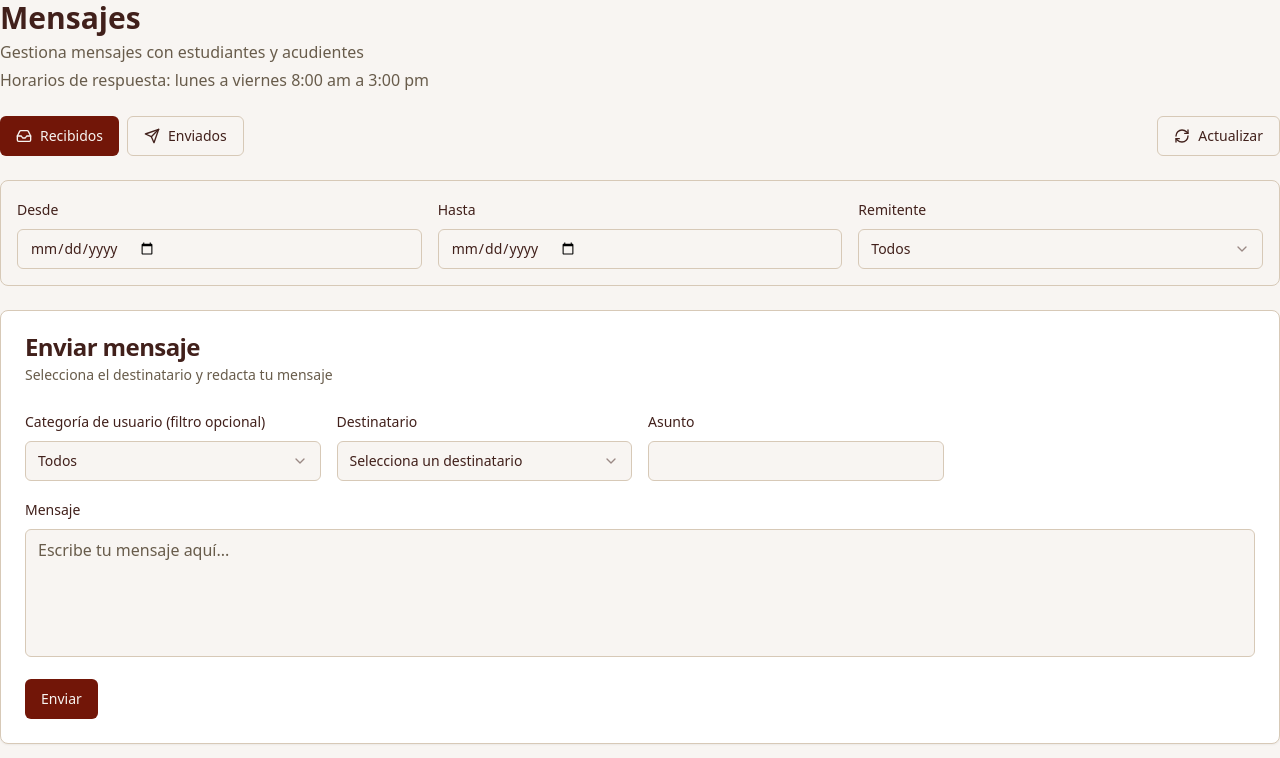
Test: MensajesPage list controls › shows a validation message and does not query for a reversed date range
Type "2026-03-20" into the date field labelled "Desde" at [219, 249], box [17, 229, 422, 269]
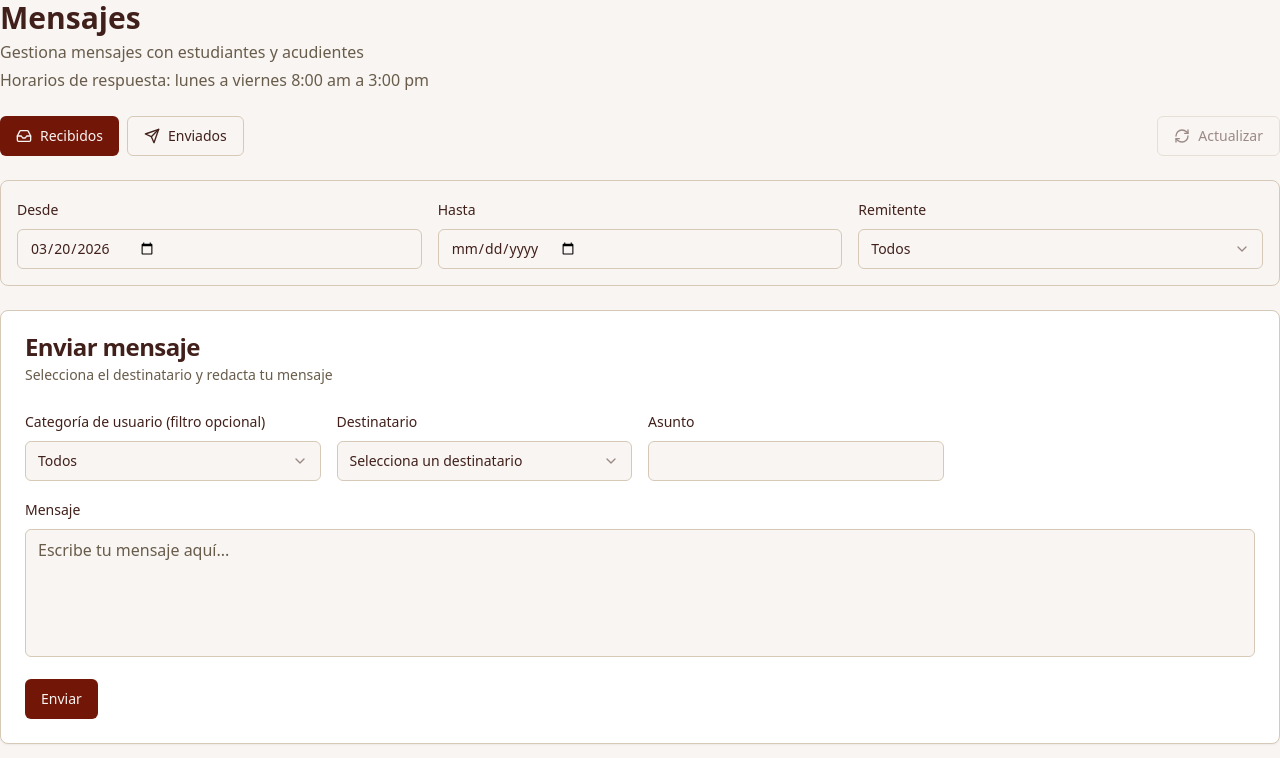
Type "2026-03-10" into the date field labelled "Hasta" at [640, 249], box [438, 229, 842, 269]
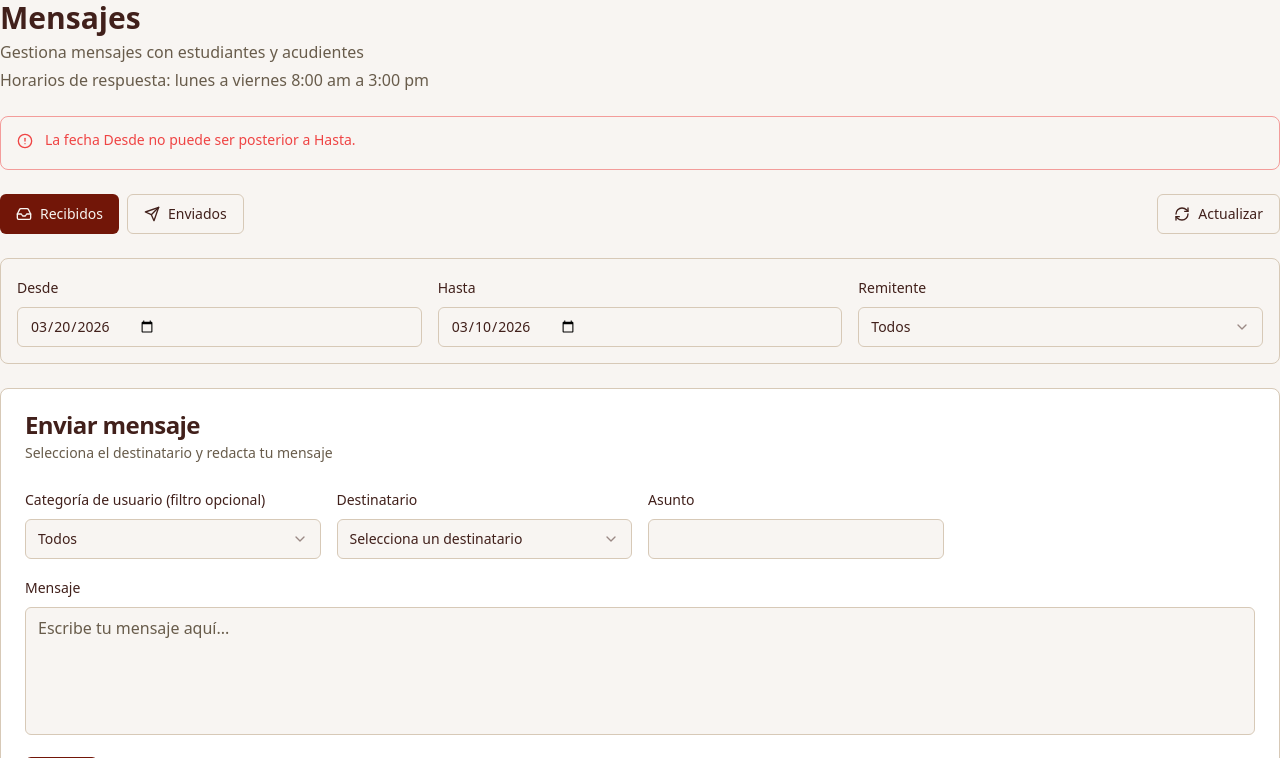
Check: the text "La fecha Desde no puede ser posterior a Hasta." is shown, box [45, 130, 356, 149]
